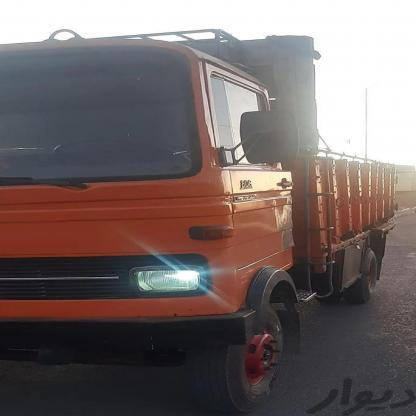Truck: (0, 23, 416, 416)
